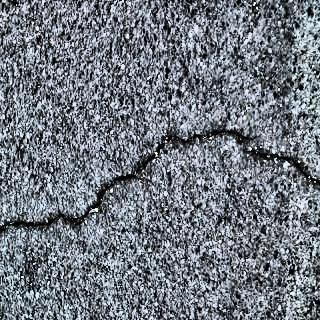crack: (141, 125, 319, 183), (0, 174, 151, 236)
